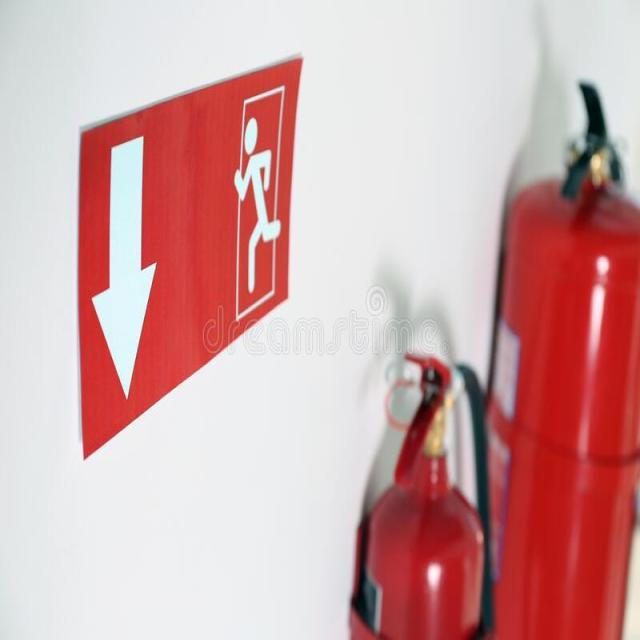fire_extinguisher: (452, 74, 639, 639), (346, 342, 500, 639)
